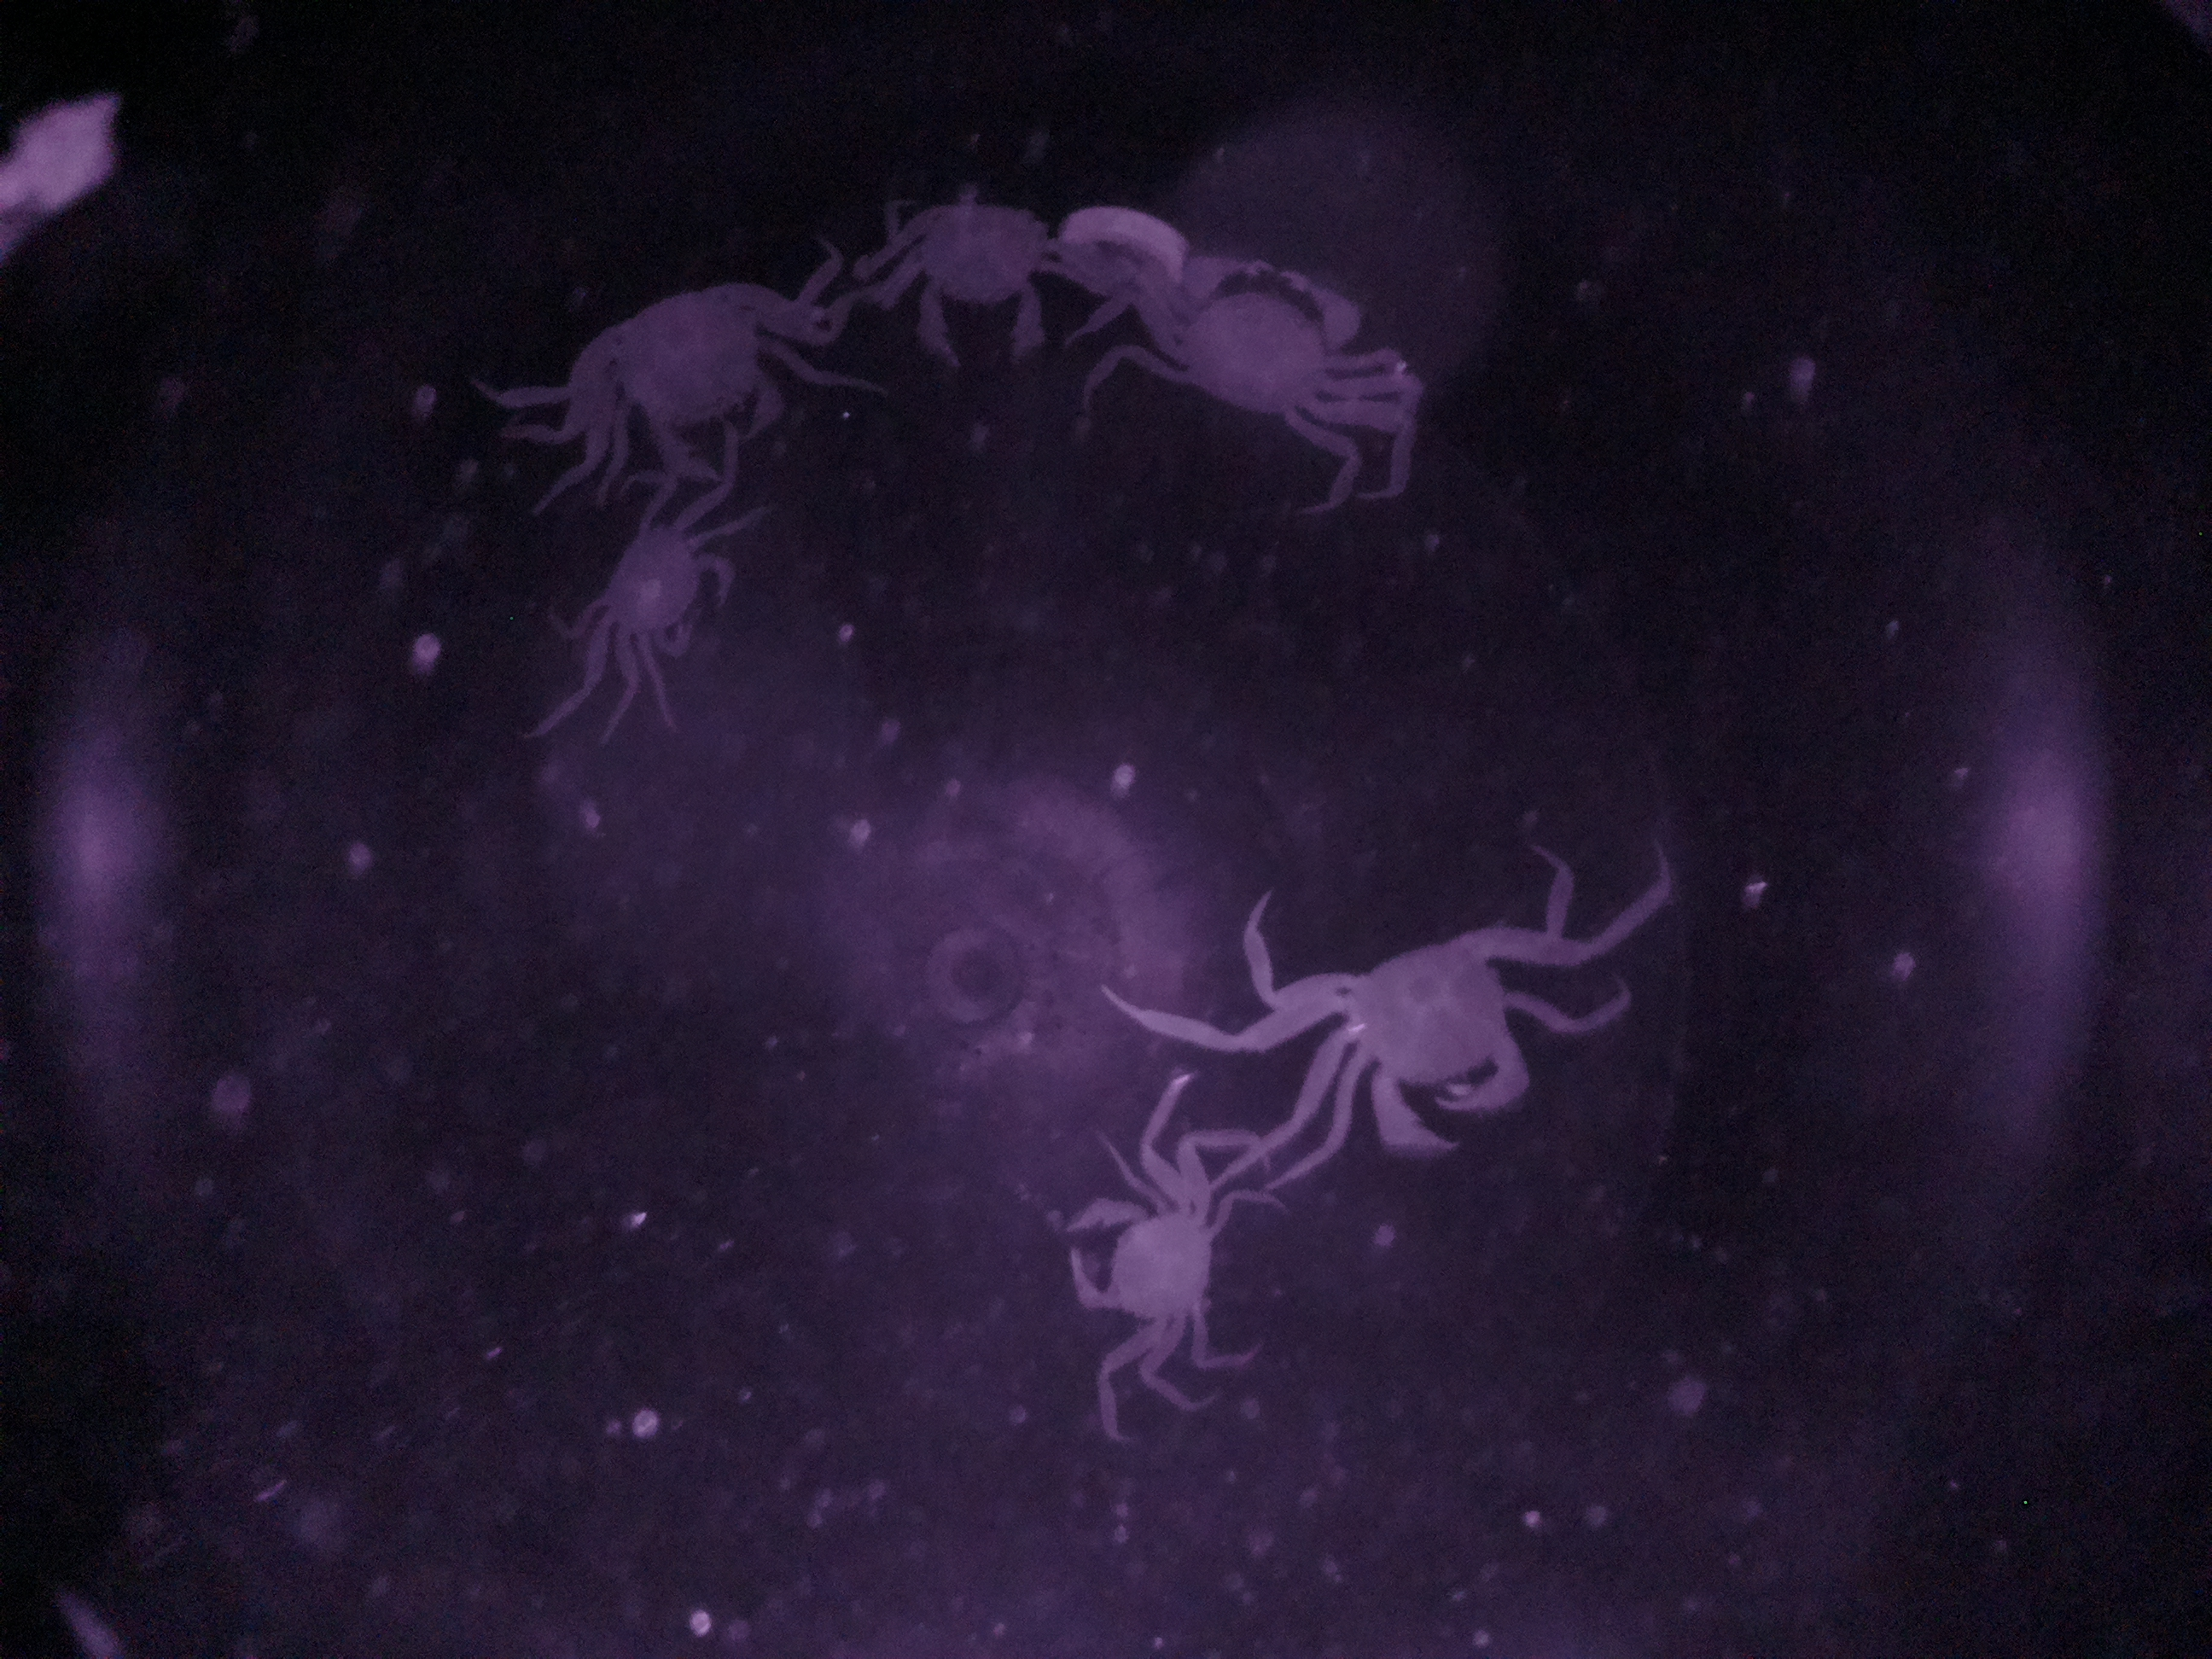Crab: (1312, 908, 1554, 1178), (580, 251, 820, 486), (1123, 239, 1392, 436), (878, 176, 1089, 408), (1057, 1148, 1228, 1378), (585, 493, 742, 676)
